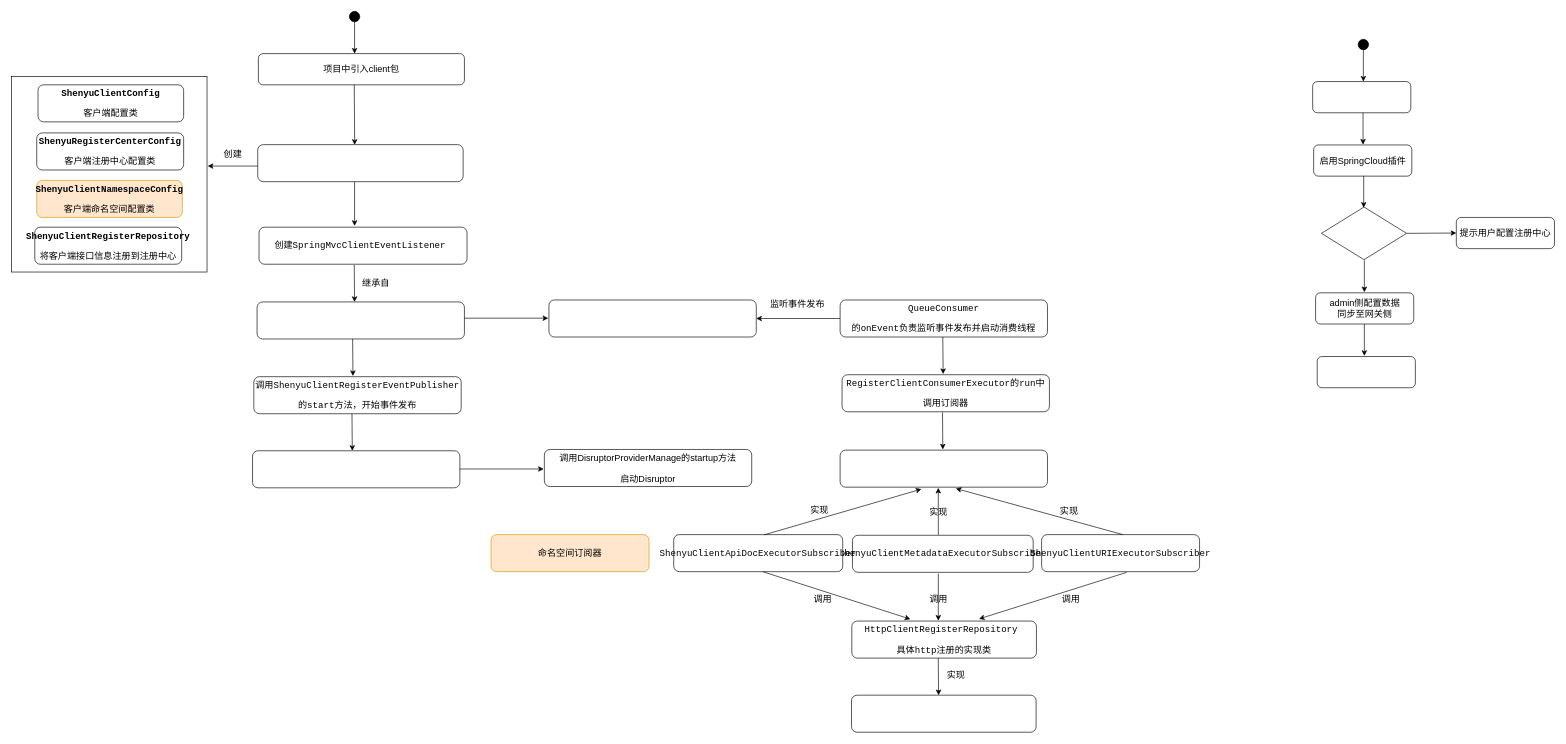
This 1566x744 diagram has some shape labels left out. Here are the shapes that lost their labels. From the top down, the centre of each, then its label:
At (x=1361, y=97): "进入插件配置页面".
At (x=360, y=163): "ShenyuClientCommonBeanConfiguration 读取配置".
At (x=1364, y=233): "是否已配置 注册中心".
At (x=360, y=320): "AbstractContextRefreshedEventListener".
At (x=652, y=318): "onApplicationEvent方法中监听，发布 元数据、URI、ApiDoc（publisher）".
At (x=1366, y=372): "初始化DiscoveryClient".
At (x=356, y=469): "start方法，添加客户端的订阅器（元数据、URI、ApiDoc）".
At (x=943, y=468): "ExecutorTypeSubscriber".
At (x=943, y=713): "ShenyuClientRegisterRepository".
